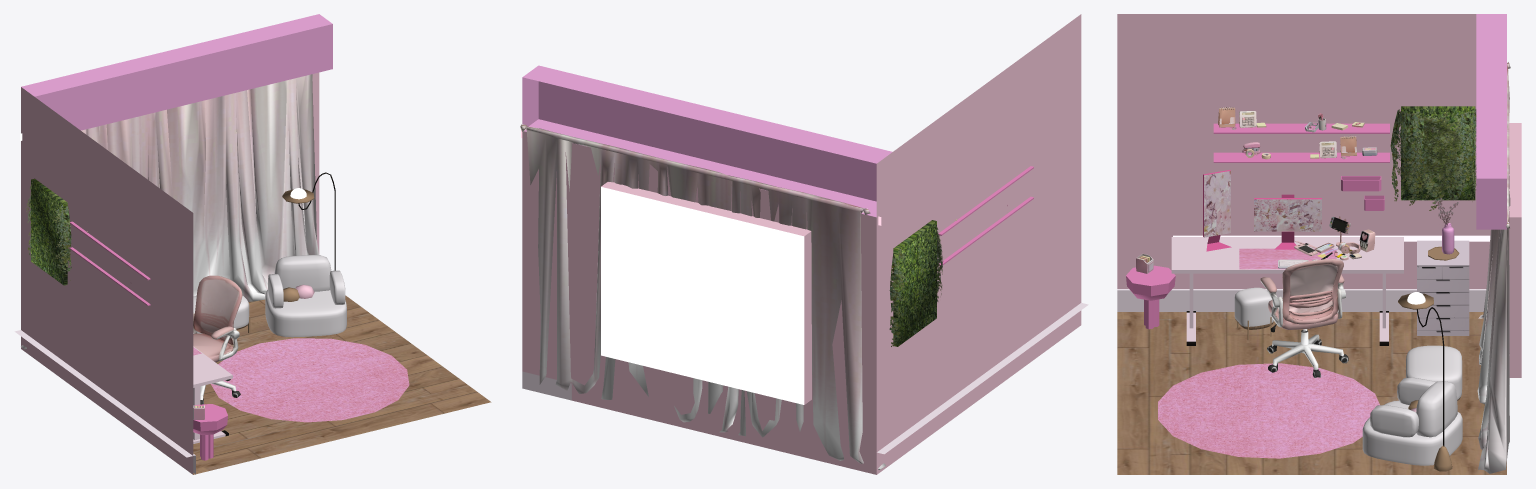
The model's file is interior_isometric_type.glb.
3 views of the same model, side by side, from view 1: azimuth 30°, elevation 25°; view 2: azimuth 150°, elevation 25°; view 3: azimuth 270°, elevation 25° (orthographic). The views are drawn at different scales.
Parts seen in each view (by area): view 1: Cube, object 30, Cylinder, Cube.005, node_0.001_jn2_0, Cube.022, Cube.014, Cylinder.003, Cube.001, Cube.004, Cube.009; view 2: Cube, Cube.001, object 30, Cube.022, Cube.014; view 3: Cube, Cylinder, Cube.022, object 30, Cube.005, node_0.001_jn2_0, Cube.004, Cube.006, Cube.014, Cube.001, node_0.003_jn2_0, Cube.010 (+12 smaller).
Boxes of the visible parts, x1,y1,x2,y2 form: Cube: (21,14,491,474); object 30: (21,74,319,349); Cylinder: (211,338,409,422); Cube.005: (265,255,346,337); node_0.001_jn2_0: (193,275,242,404); Cube.022: (25,178,71,285); Cube.014: (14,330,195,474); Cylinder.003: (193,404,227,460); Cube.001: (312,72,319,253); Cube.004: (193,346,232,387); Cube.009: (282,172,335,270); Cube: (522,14,1081,474); Cube.001: (522,131,876,474); object 30: (520,124,885,469); Cube.022: (889,220,943,346); Cube.014: (877,303,1088,454); Cube: (1117,14,1506,474); Cylinder: (1158,363,1379,458); Cube.022: (1390,106,1476,210); object 30: (1477,62,1510,473); Cube.005: (1362,377,1462,465); node_0.001_jn2_0: (1260,259,1348,377); Cube.004: (1171,237,1403,273); Cube.006: (1417,240,1469,335); Cube.014: (1117,289,1486,311); Cube.001: (1509,123,1521,377); node_0.003_jn2_0: (1136,107,1377,273); Cube.010: (1254,198,1321,231).
Size of the model in its own units: 4.65 by 3.77 by 4.58.
5 materials, 3 textured.
